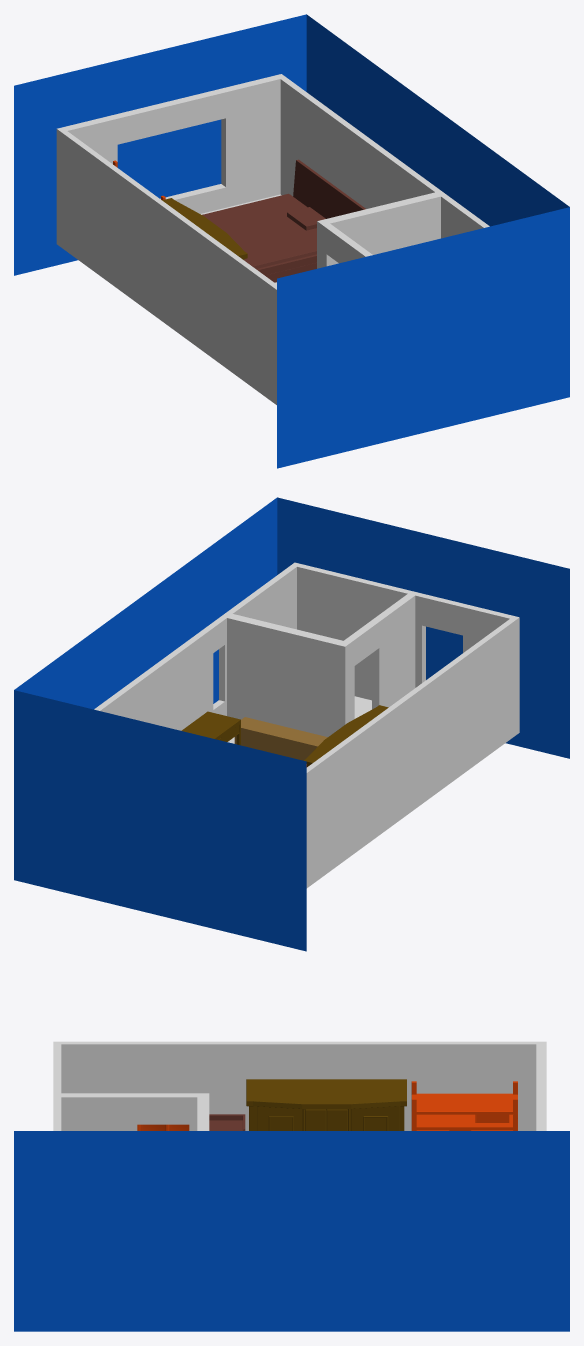
The model's file is room.glb.
3 views of the same model, one above another, from view 1: azimuth 30°, elevation 25°; view 2: azimuth 150°, elevation 25°; view 3: azimuth 270°, elevation 25° (orthographic). The views are drawn at different scales.
Parts seen in each view (by area): view 1: room_shell, Bed, Large_wardrobe; view 2: room_shell, Long_cabinet, Desk, Large_wardrobe; view 3: room_shell, Large_wardrobe, Multi-tier_cabinet, Low_cabinet, Large_wardrobe_door_03, Large_wardrobe_door_04.
Part boxes in pixels (x1=…): room_shell: x1=14, y1=14, x2=569, y2=468; Bed: x1=202, y1=159, x2=365, y2=282; Large_wardrobe: x1=162, y1=198, x2=247, y2=259; room_shell: x1=14, y1=497, x2=569, y2=951; Long_cabinet: x1=234, y1=717, x2=327, y2=760; Desk: x1=181, y1=711, x2=240, y2=745; Large_wardrobe: x1=304, y1=705, x2=388, y2=766; room_shell: x1=14, y1=1041, x2=569, y2=1331; Large_wardrobe: x1=246, y1=1079, x2=406, y2=1130; Multi-tier_cabinet: x1=411, y1=1081, x2=517, y2=1130; Low_cabinet: x1=209, y1=1114, x2=245, y2=1130; Large_wardrobe_door_03: x1=326, y1=1109, x2=347, y2=1130; Large_wardrobe_door_04: x1=305, y1=1109, x2=326, y2=1130.
Bounding box in the file's own units: 2.51 × 1.56 × 3.91.
